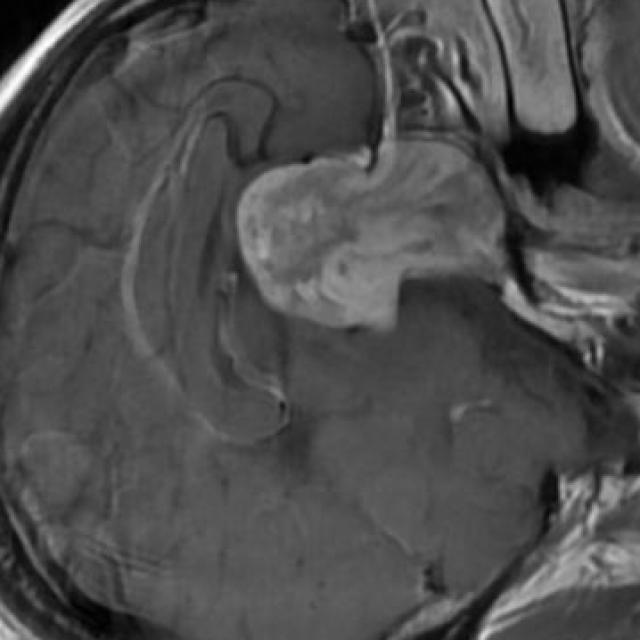pituitary: (237, 143, 505, 330)
